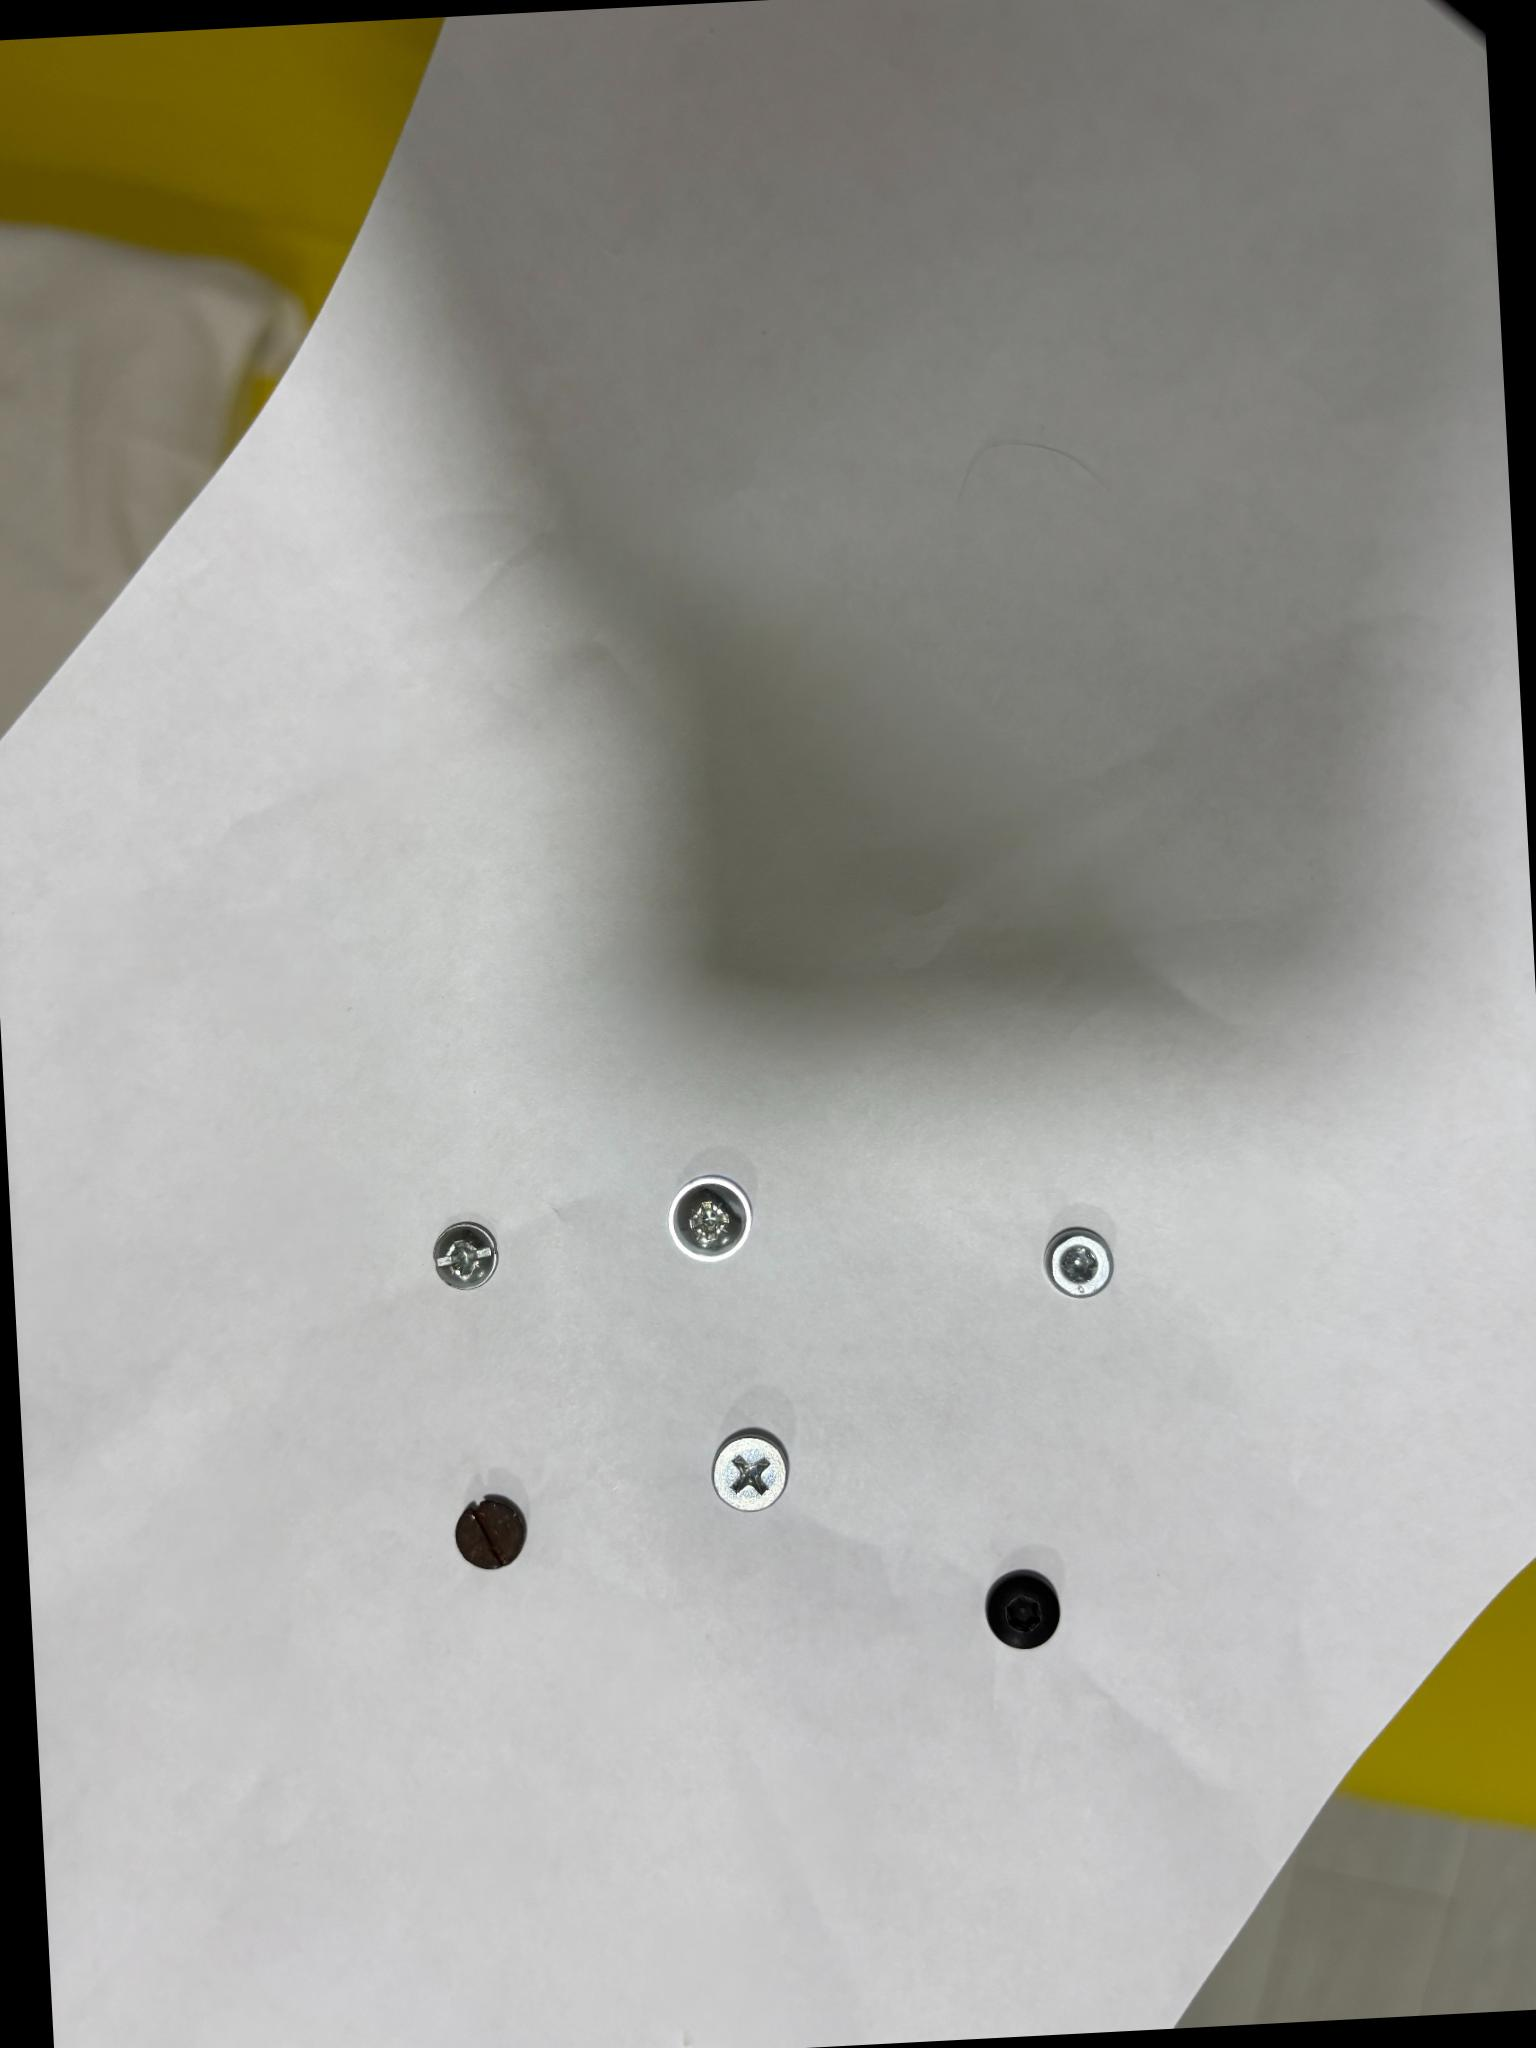H: (984, 1569, 1058, 1648)
PH: (712, 1432, 787, 1509)
PZ: (668, 1176, 750, 1259), (432, 1221, 495, 1288)
SL: (453, 1493, 526, 1567)
T: (1044, 1227, 1110, 1297)
